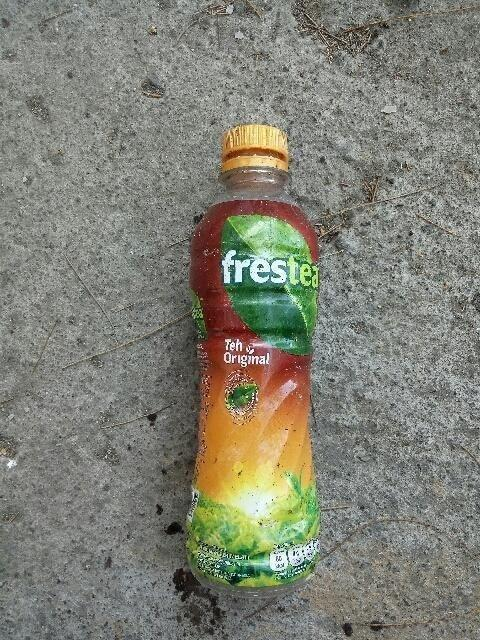bottle-plastic: (177, 117, 328, 608)
